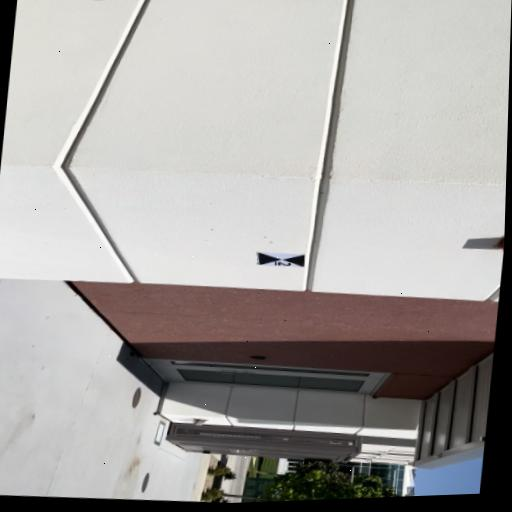target2: (255, 250, 307, 270)
